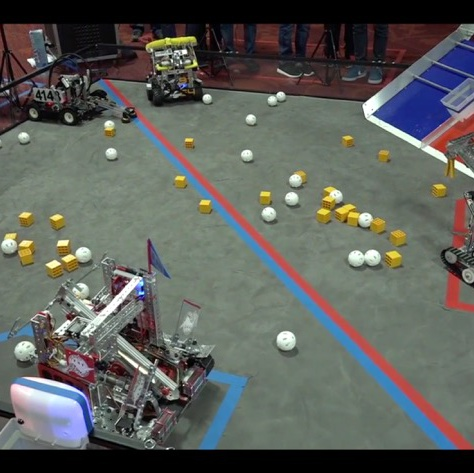robot: (11, 237, 217, 451), (21, 50, 140, 127), (437, 125, 474, 290), (140, 34, 207, 109)
